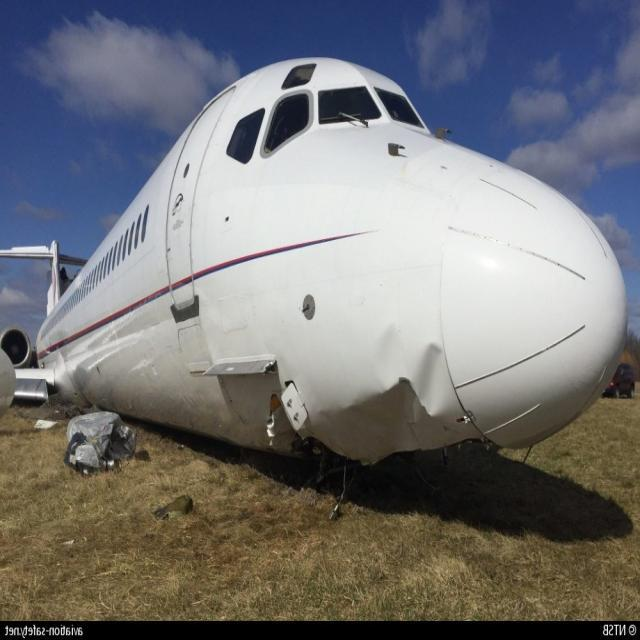dent: (414, 343, 446, 416), (374, 323, 405, 389)
